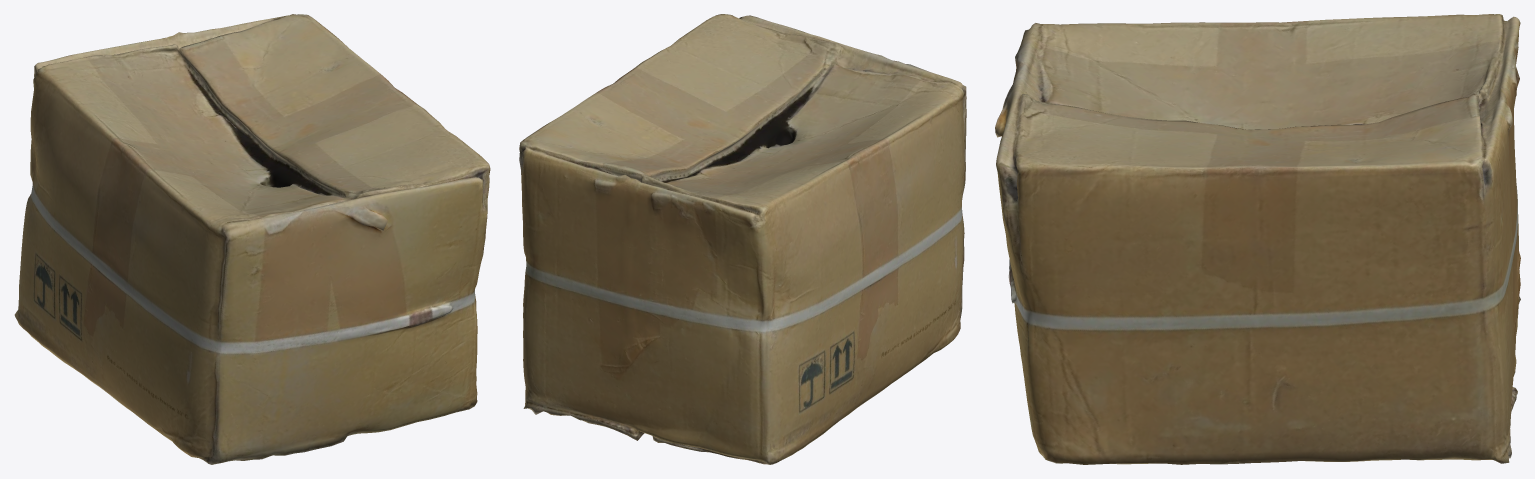
File: cardboard_box_01.glb
3 views of the same model, side by side, from view 1: azimuth 30°, elevation 25°; view 2: azimuth 150°, elevation 25°; view 3: azimuth 270°, elevation 25° (orthographic). The views are drawn at different scales.
Bounding box in the file's own units: 0.387 × 0.3418 × 0.5159.
Materials: 1 (1 with a texture image).
